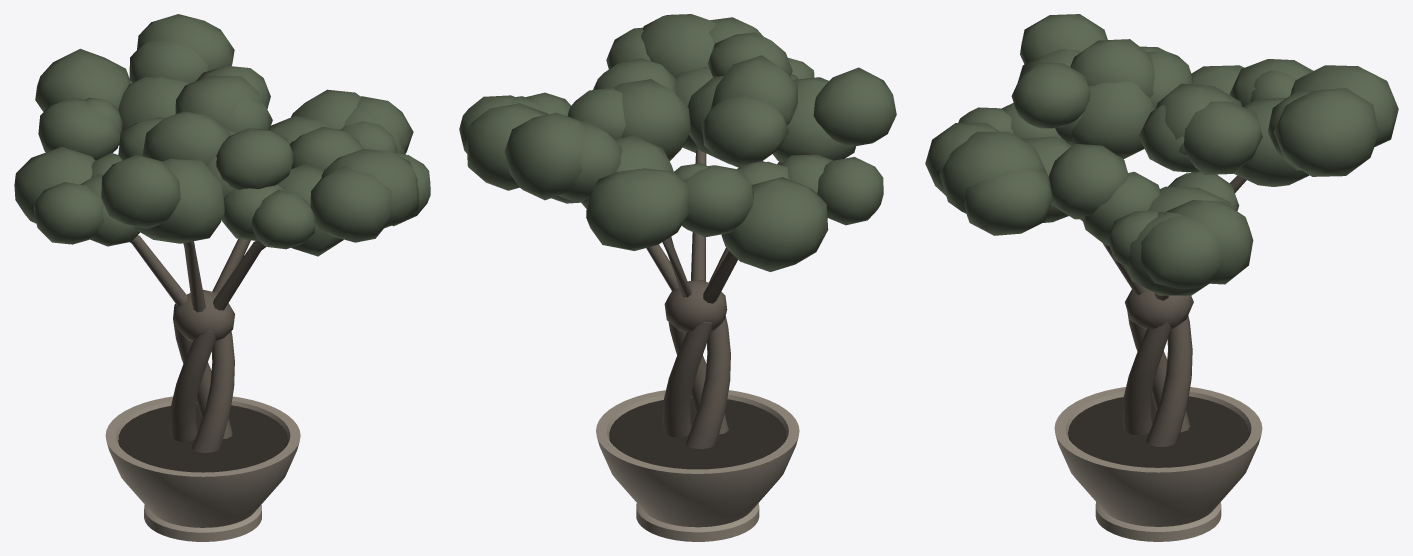
The model's file is olive_tree.glb.
The picture shows the model from 3 angles, left to right: view 1: azimuth 30°, elevation 25°; view 2: azimuth 150°, elevation 25°; view 3: azimuth 270°, elevation 25°; orthographic projection. The views are drawn at different scales.
Parts seen in each view (by area): view 1: Planter_LOD0, Soil_LOD0, Leaves_LOD0.030, Leaves_LOD0.025, Leaves_LOD0.021, Leaves_LOD0.012, Leaves_LOD0.024, Leaves_LOD0.015, Leaves_LOD0.019, Leaves_LOD0.022, Leaves_LOD0.034, Leaves_LOD0.014 (+28 smaller); view 2: Planter_LOD0, Soil_LOD0, Leaves_LOD0.012, Leaves_LOD0.014, Leaves_LOD0.008, Leaves_LOD0.025, Leaves_LOD0.023, Leaves_LOD0.015, Leaves_LOD0.010, Leaves_LOD0.004, Leaves_LOD0.019, Leaves_LOD0.034 (+24 smaller); view 3: Planter_LOD0, Soil_LOD0, Leaves_LOD0.008, Leaves_LOD0.002, Leaves_LOD0.033, Leaves_LOD0.013, Leaves_LOD0.027, Leaves_LOD0.031, Leaves_LOD0.034, Leaves_LOD0.024, Stem_LOD0, Leaves_LOD0.022 (+25 smaller).
Part boxes in pixels (<box>): Planter_LOD0: <box>105,396,300,527</box>; Soil_LOD0: <box>118,403,287,472</box>; Leaves_LOD0.030: <box>310,166,391,242</box>; Leaves_LOD0.025: <box>101,154,180,228</box>; Leaves_LOD0.021: <box>133,158,224,243</box>; Leaves_LOD0.012: <box>35,48,130,111</box>; Leaves_LOD0.024: <box>216,128,294,189</box>; Leaves_LOD0.015: <box>38,98,121,160</box>; Leaves_LOD0.019: <box>33,182,103,244</box>; Leaves_LOD0.022: <box>142,111,230,165</box>; Leaves_LOD0.034: <box>321,148,418,228</box>; Leaves_LOD0.014: <box>14,146,95,223</box>; Planter_LOD0: <box>596,390,799,527</box>; Soil_LOD0: <box>609,397,785,469</box>; Leaves_LOD0.012: <box>586,168,689,250</box>; Leaves_LOD0.014: <box>721,177,828,271</box>; Leaves_LOD0.008: <box>504,112,584,200</box>; Leaves_LOD0.025: <box>813,67,896,147</box>; Leaves_LOD0.023: <box>701,96,788,167</box>; Leaves_LOD0.015: <box>681,165,753,236</box>; Leaves_LOD0.010: <box>614,79,690,160</box>; Leaves_LOD0.004: <box>466,103,547,190</box>; Leaves_LOD0.019: <box>817,157,883,225</box>; Leaves_LOD0.034: <box>641,14,715,76</box>; Planter_LOD0: <box>1054,387,1262,526</box>; Soil_LOD0: <box>1068,395,1248,467</box>; Leaves_LOD0.008: <box>1273,88,1378,176</box>; Leaves_LOD0.002: <box>1141,213,1222,289</box>; Leaves_LOD0.033: <box>964,168,1052,235</box>; Leaves_LOD0.013: <box>1184,101,1262,174</box>; Leaves_LOD0.027: <box>1068,81,1154,159</box>; Leaves_LOD0.031: <box>1048,143,1128,219</box>; Leaves_LOD0.034: <box>939,131,1046,213</box>; Leaves_LOD0.024: <box>1011,62,1090,128</box>; Stem_LOD0: <box>1146,315,1192,446</box>; Leaves_LOD0.022: <box>1070,39,1154,97</box>.
Bounding box in the file's own units: 3.43 × 3.67 × 3.46.
